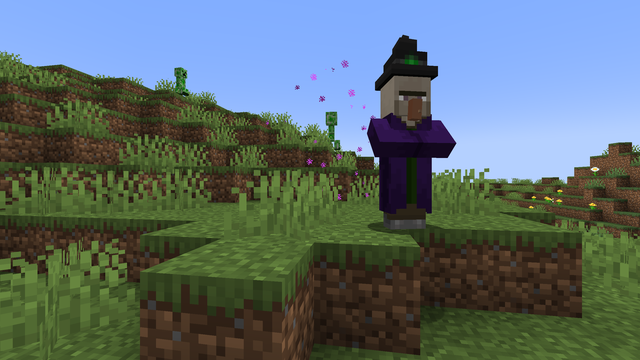creepers: (323, 109, 337, 149), (173, 65, 188, 95)
sorcieres: (379, 66, 434, 232)
